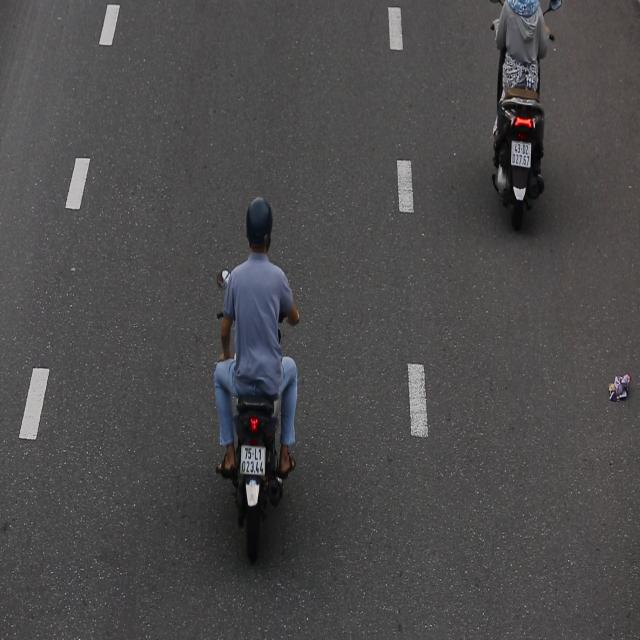motorbike: (211, 192, 304, 560)
